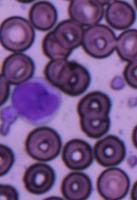L: (10, 76, 63, 125)
